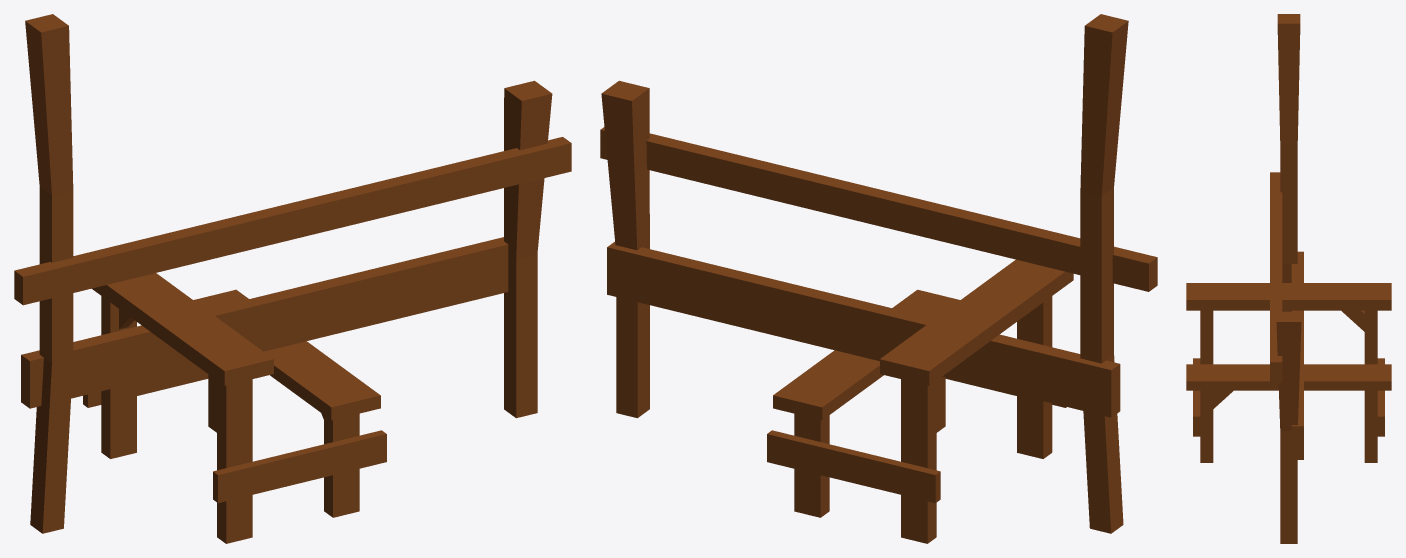
File: StepFence2.fbx
3 renders of one model, left to right at view 1: azimuth 30°, elevation 25°; view 2: azimuth 150°, elevation 25°; view 3: azimuth 270°, elevation 25°, orthographic. The views are drawn at different scales.
Parts seen in each view (by area): view 1: StepFence2; view 2: StepFence2; view 3: StepFence2.
Part boxes in pixels (bbox=[...]): StepFence2: bbox=[14, 14, 571, 543]; StepFence2: bbox=[600, 14, 1157, 543]; StepFence2: bbox=[1186, 14, 1391, 543].
Bounding box in the file's own units: 206 × 181 × 94.13.
